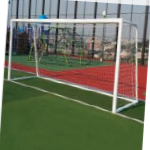goals: (8, 16, 140, 113)
